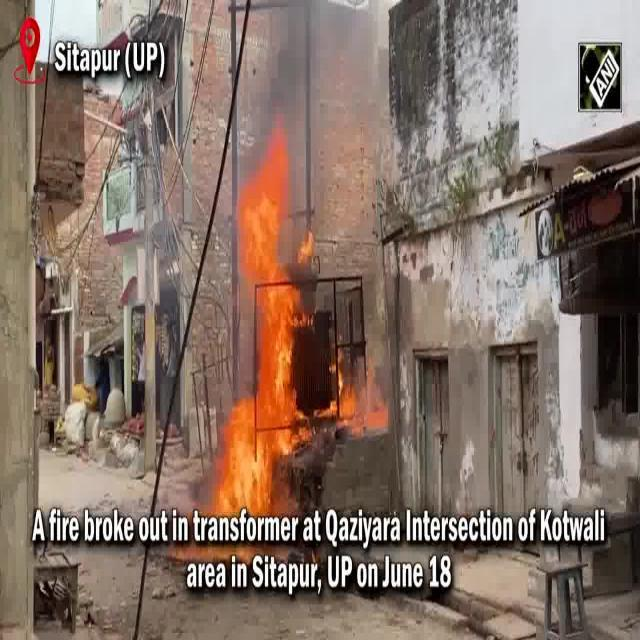Fire: (226, 203, 374, 544)
Smoke: (278, 16, 360, 135)
